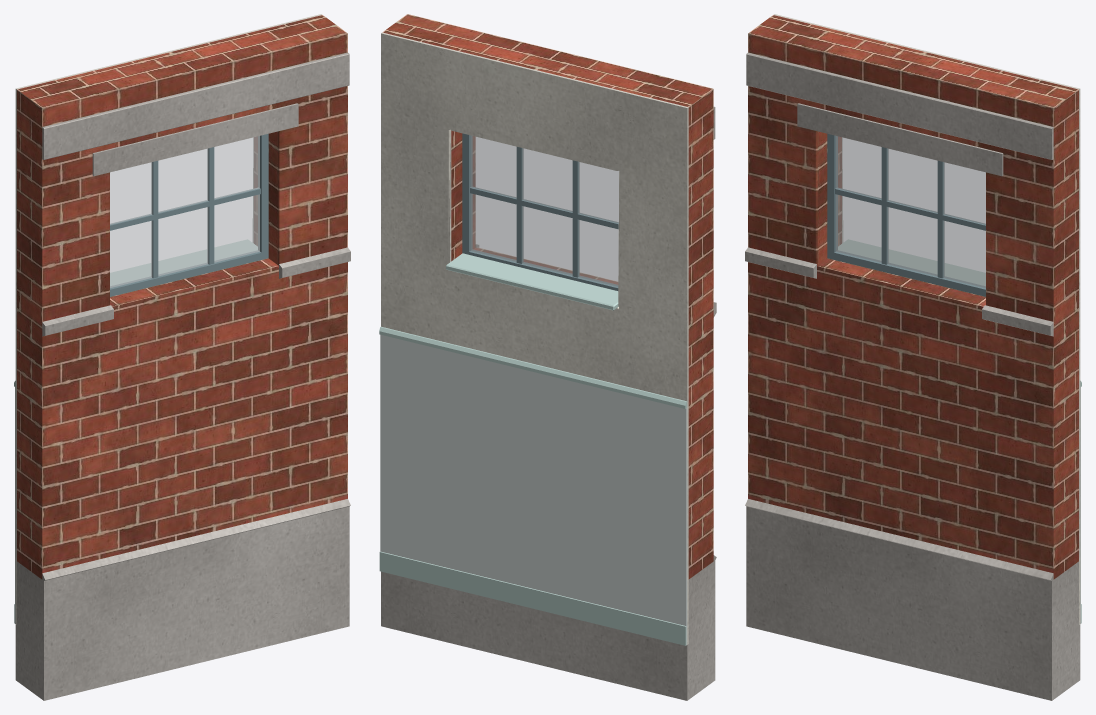
The model's file is w_win_s.glb.
The picture shows the model from 3 angles, left to right: view 1: azimuth 30°, elevation 25°; view 2: azimuth 150°, elevation 25°; view 3: azimuth 330°, elevation 25°; orthographic projection.
Parts seen in each view (by area): view 1: w_win_s_brick, w_win_s_concrete, w_win_s_glass_f, w_win_s_frame, w_win_s_tile_c, w_win_s_plaster; view 2: w_win_s_plaster, w_win_s_tile_w, w_win_s_brick, w_win_s_concrete, w_win_s_glass_f, w_win_s_tile_c, w_win_s_frame; view 3: w_win_s_brick, w_win_s_concrete, w_win_s_glass_f, w_win_s_frame, w_win_s_tile_c, w_win_s_plaster.
Boxes of the visible parts, x1=… form: w_win_s_brick: x1=17, y1=15, x2=347, y2=579; w_win_s_concrete: x1=15, y1=52, x2=350, y2=700; w_win_s_glass_f: x1=110, y1=136, x2=259, y2=287; w_win_s_frame: x1=110, y1=133, x2=268, y2=296; w_win_s_tile_c: x1=14, y1=239, x2=257, y2=623; w_win_s_plaster: x1=15, y1=14, x2=322, y2=624; w_win_s_plaster: x1=381, y1=32, x2=688, y2=644; w_win_s_tile_w: x1=380, y1=334, x2=687, y2=645; w_win_s_brick: x1=382, y1=14, x2=713, y2=579; w_win_s_concrete: x1=381, y1=106, x2=716, y2=700; w_win_s_glass_f: x1=470, y1=135, x2=618, y2=286; w_win_s_tile_c: x1=379, y1=253, x2=687, y2=645; w_win_s_frame: x1=462, y1=133, x2=618, y2=290; w_win_s_brick: x1=748, y1=15, x2=1078, y2=579; w_win_s_concrete: x1=745, y1=52, x2=1080, y2=700; w_win_s_glass_f: x1=836, y1=136, x2=985, y2=287; w_win_s_frame: x1=827, y1=133, x2=985, y2=296; w_win_s_tile_c: x1=838, y1=239, x2=1081, y2=623; w_win_s_plaster: x1=773, y1=14, x2=1080, y2=624.
Bounding box in the file's own units: 2 × 3.7 × 0.385.
Materials: 7 (3 with a texture image).
